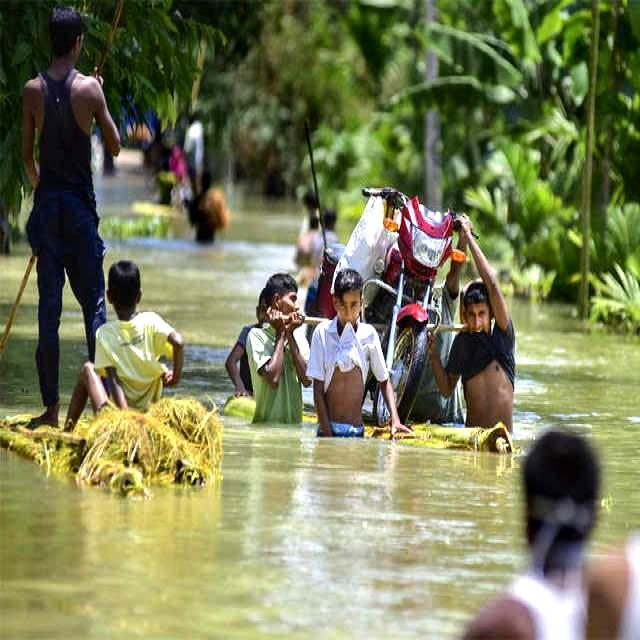civilian: (15, 0, 134, 438), (468, 413, 640, 640), (66, 252, 186, 438), (316, 266, 386, 454), (447, 263, 523, 435), (256, 274, 308, 444), (224, 278, 272, 412), (178, 164, 238, 241), (180, 105, 217, 189), (296, 207, 326, 274), (311, 206, 339, 269), (148, 154, 176, 211)
